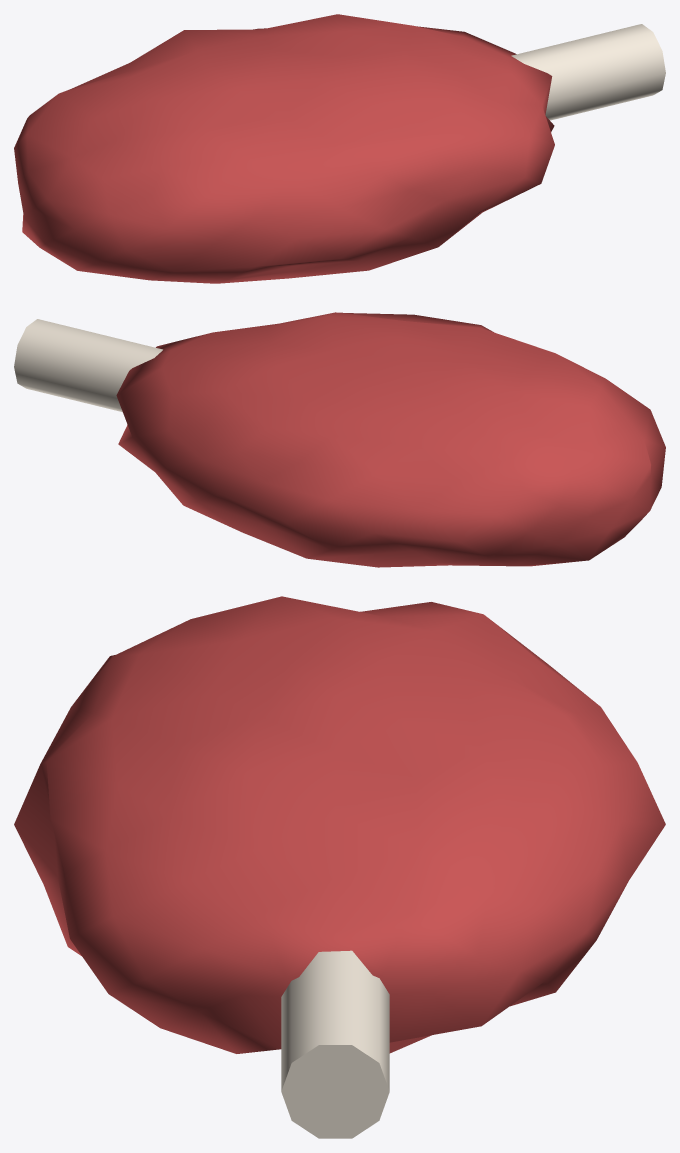
File: raw_meat.glb
3 renders of one model, top to bottom at view 1: azimuth 30°, elevation 25°; view 2: azimuth 150°, elevation 25°; view 3: azimuth 270°, elevation 25°, orthographic. The views are drawn at different scales.
Visible parts, largest first — view 1: raw_meat, bone; view 2: raw_meat, bone; view 3: raw_meat, bone.
Part boxes in pixels (x1,y1,x2,y2): raw_meat: (14, 14, 554, 283); bone: (511, 24, 665, 120); raw_meat: (116, 312, 665, 567); bone: (14, 319, 162, 411); raw_meat: (14, 596, 665, 1053); bone: (281, 950, 389, 1138).
Bounding box in the file's own units: 0.2332 × 0.0622 × 0.1443.
